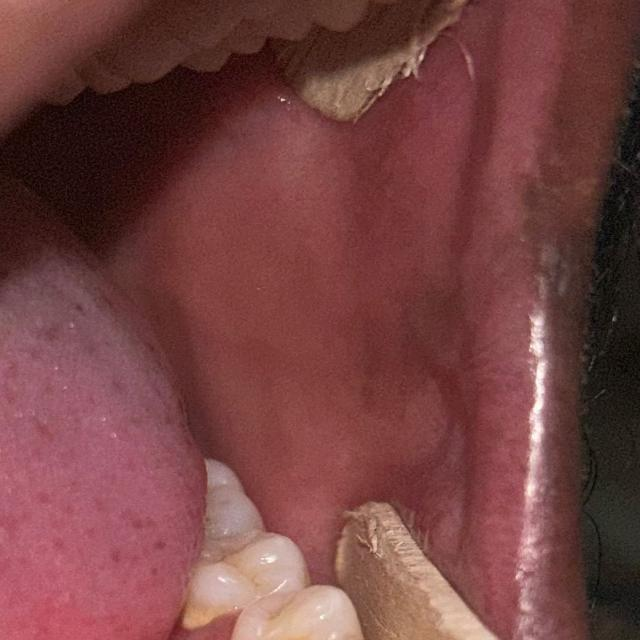processing_area: (2, 0, 545, 639)
